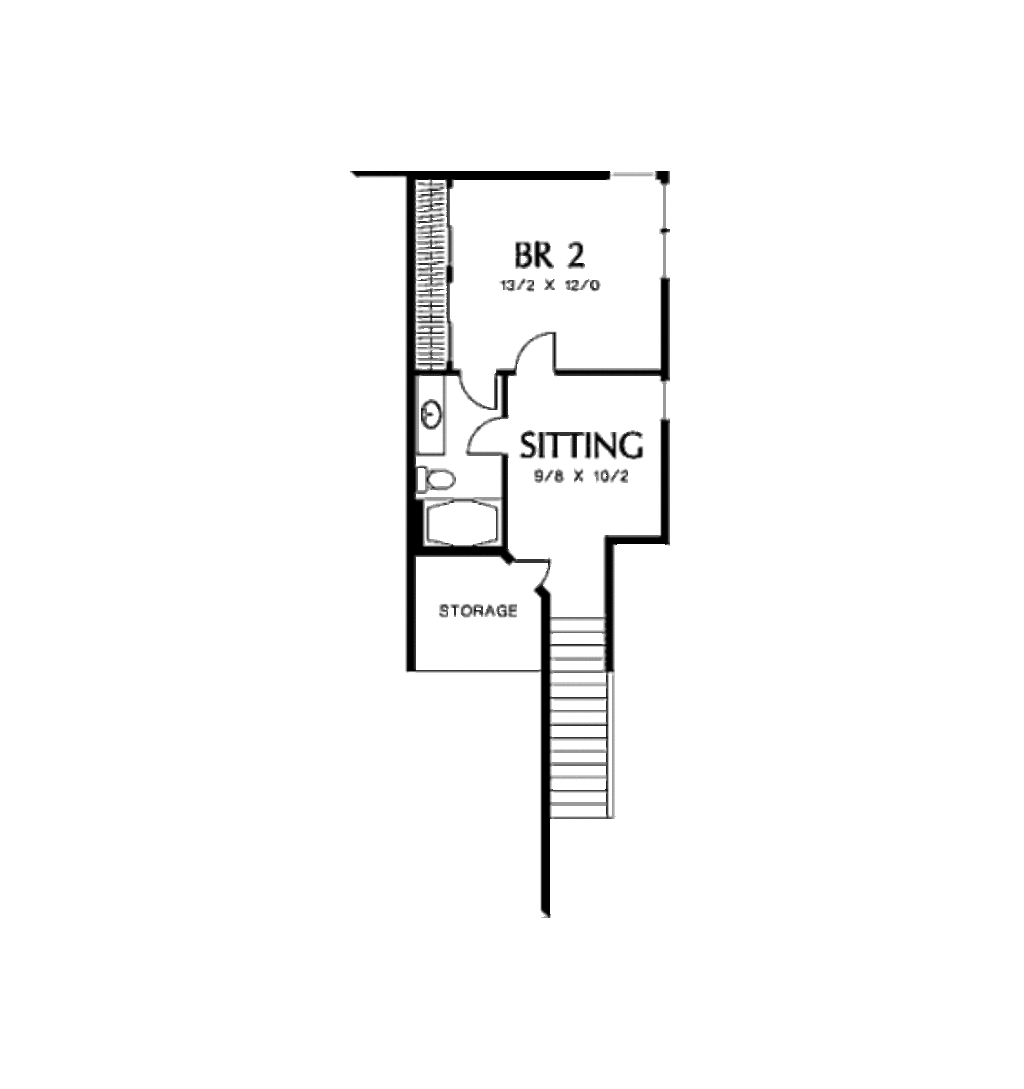door: (455, 352, 509, 414), (457, 409, 512, 467), (512, 327, 564, 379), (514, 557, 560, 602)
large_sink: (409, 459, 465, 504)
small_sink: (412, 370, 449, 460)
stairs: (539, 619, 620, 842)
tub: (415, 497, 510, 557)
